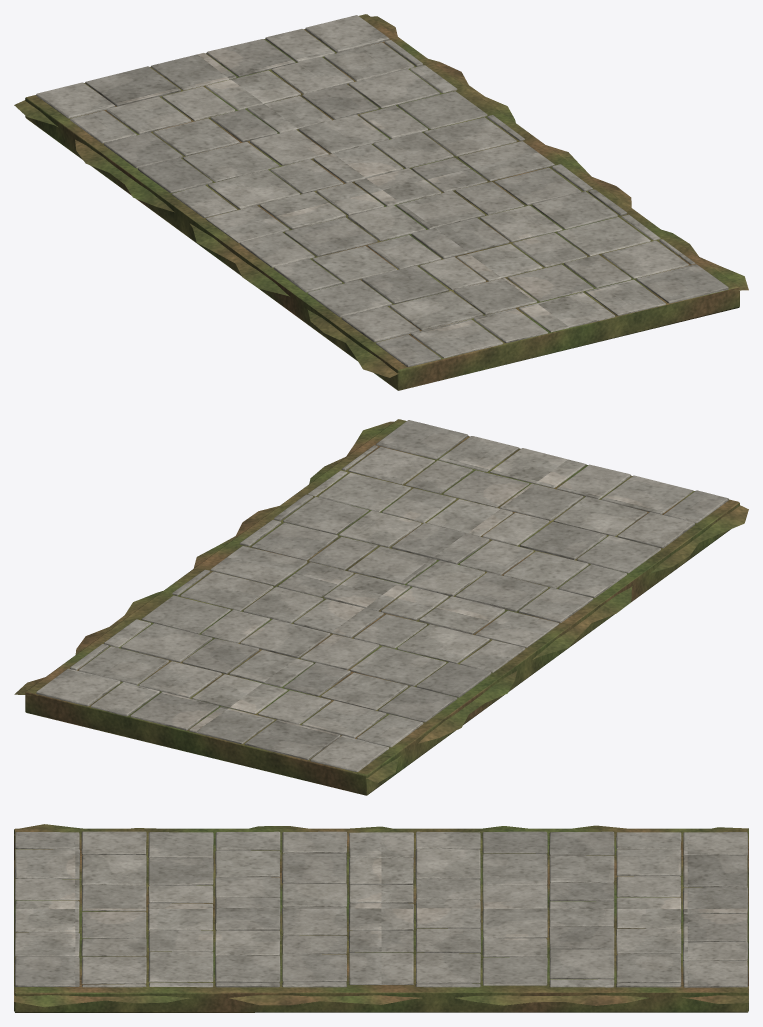
Rendered from stone_path_platform-LOD1.glb.
3 renders of one model, top to bottom at view 1: azimuth 30°, elevation 25°; view 2: azimuth 150°, elevation 25°; view 3: azimuth 270°, elevation 25°, orthographic.
Parts seen in each view (by area): view 1: Buried earthen roadbed, Closely fitted hand dressed flagstone.008, Closely fitted hand dressed flagstone.001, Closely fitted hand dressed flagstone.003, Closely fitted hand dressed flagstone, Closely fitted hand dressed flagstone.006, Closely fitted hand dressed flagstone.046; view 2: Buried earthen roadbed, Closely fitted hand dressed flagstone.008, Closely fitted hand dressed flagstone.001, Closely fitted hand dressed flagstone.003, Closely fitted hand dressed flagstone, Closely fitted hand dressed flagstone.006, Closely fitted hand dressed flagstone.046; view 3: Buried earthen roadbed, Closely fitted hand dressed flagstone.008, Closely fitted hand dressed flagstone.001, Closely fitted hand dressed flagstone.003, Closely fitted hand dressed flagstone, Closely fitted hand dressed flagstone.006, Closely fitted hand dressed flagstone.046.
Part boxes in pixels (left/top/right/bottom): Buried earthen roadbed: left=14, top=14, right=748, bottom=390; Closely fitted hand dressed flagstone.008: left=36, top=15, right=592, bottom=314; Closely fitted hand dressed flagstone.001: left=70, top=29, right=695, bottom=358; Closely fitted hand dressed flagstone.003: left=205, top=65, right=660, bottom=332; Closely fitted hand dressed flagstone: left=151, top=53, right=728, bottom=366; Closely fitted hand dressed flagstone.006: left=324, top=40, right=631, bottom=342; Closely fitted hand dressed flagstone.046: left=85, top=39, right=524, bottom=193; Buried earthen roadbed: left=14, top=419, right=748, bottom=795; Closely fitted hand dressed flagstone.008: left=36, top=483, right=626, bottom=771; Closely fitted hand dressed flagstone.001: left=91, top=436, right=693, bottom=747; Closely fitted hand dressed flagstone.003: left=104, top=448, right=647, bottom=713; Closely fitted hand dressed flagstone: left=189, top=420, right=728, bottom=743; Closely fitted hand dressed flagstone.006: left=70, top=460, right=694, bottom=684; Closely fitted hand dressed flagstone.046: left=130, top=569, right=491, bottom=760; Buried earthen roadbed: left=14, top=824, right=748, bottom=1012; Closely fitted hand dressed flagstone.008: left=82, top=831, right=747, bottom=987; Closely fitted hand dressed flagstone.001: left=14, top=831, right=748, bottom=987; Closely fitted hand dressed flagstone.003: left=15, top=849, right=681, bottom=987; Closely fitted hand dressed flagstone: left=15, top=832, right=747, bottom=987; Closely fitted hand dressed flagstone.006: left=81, top=831, right=681, bottom=987; Closely fitted hand dressed flagstone.046: left=415, top=831, right=747, bottom=987.
Bounding box in the file's own units: 4.72 × 0.2781 × 8.
Materials: 7 (7 with a texture image).
